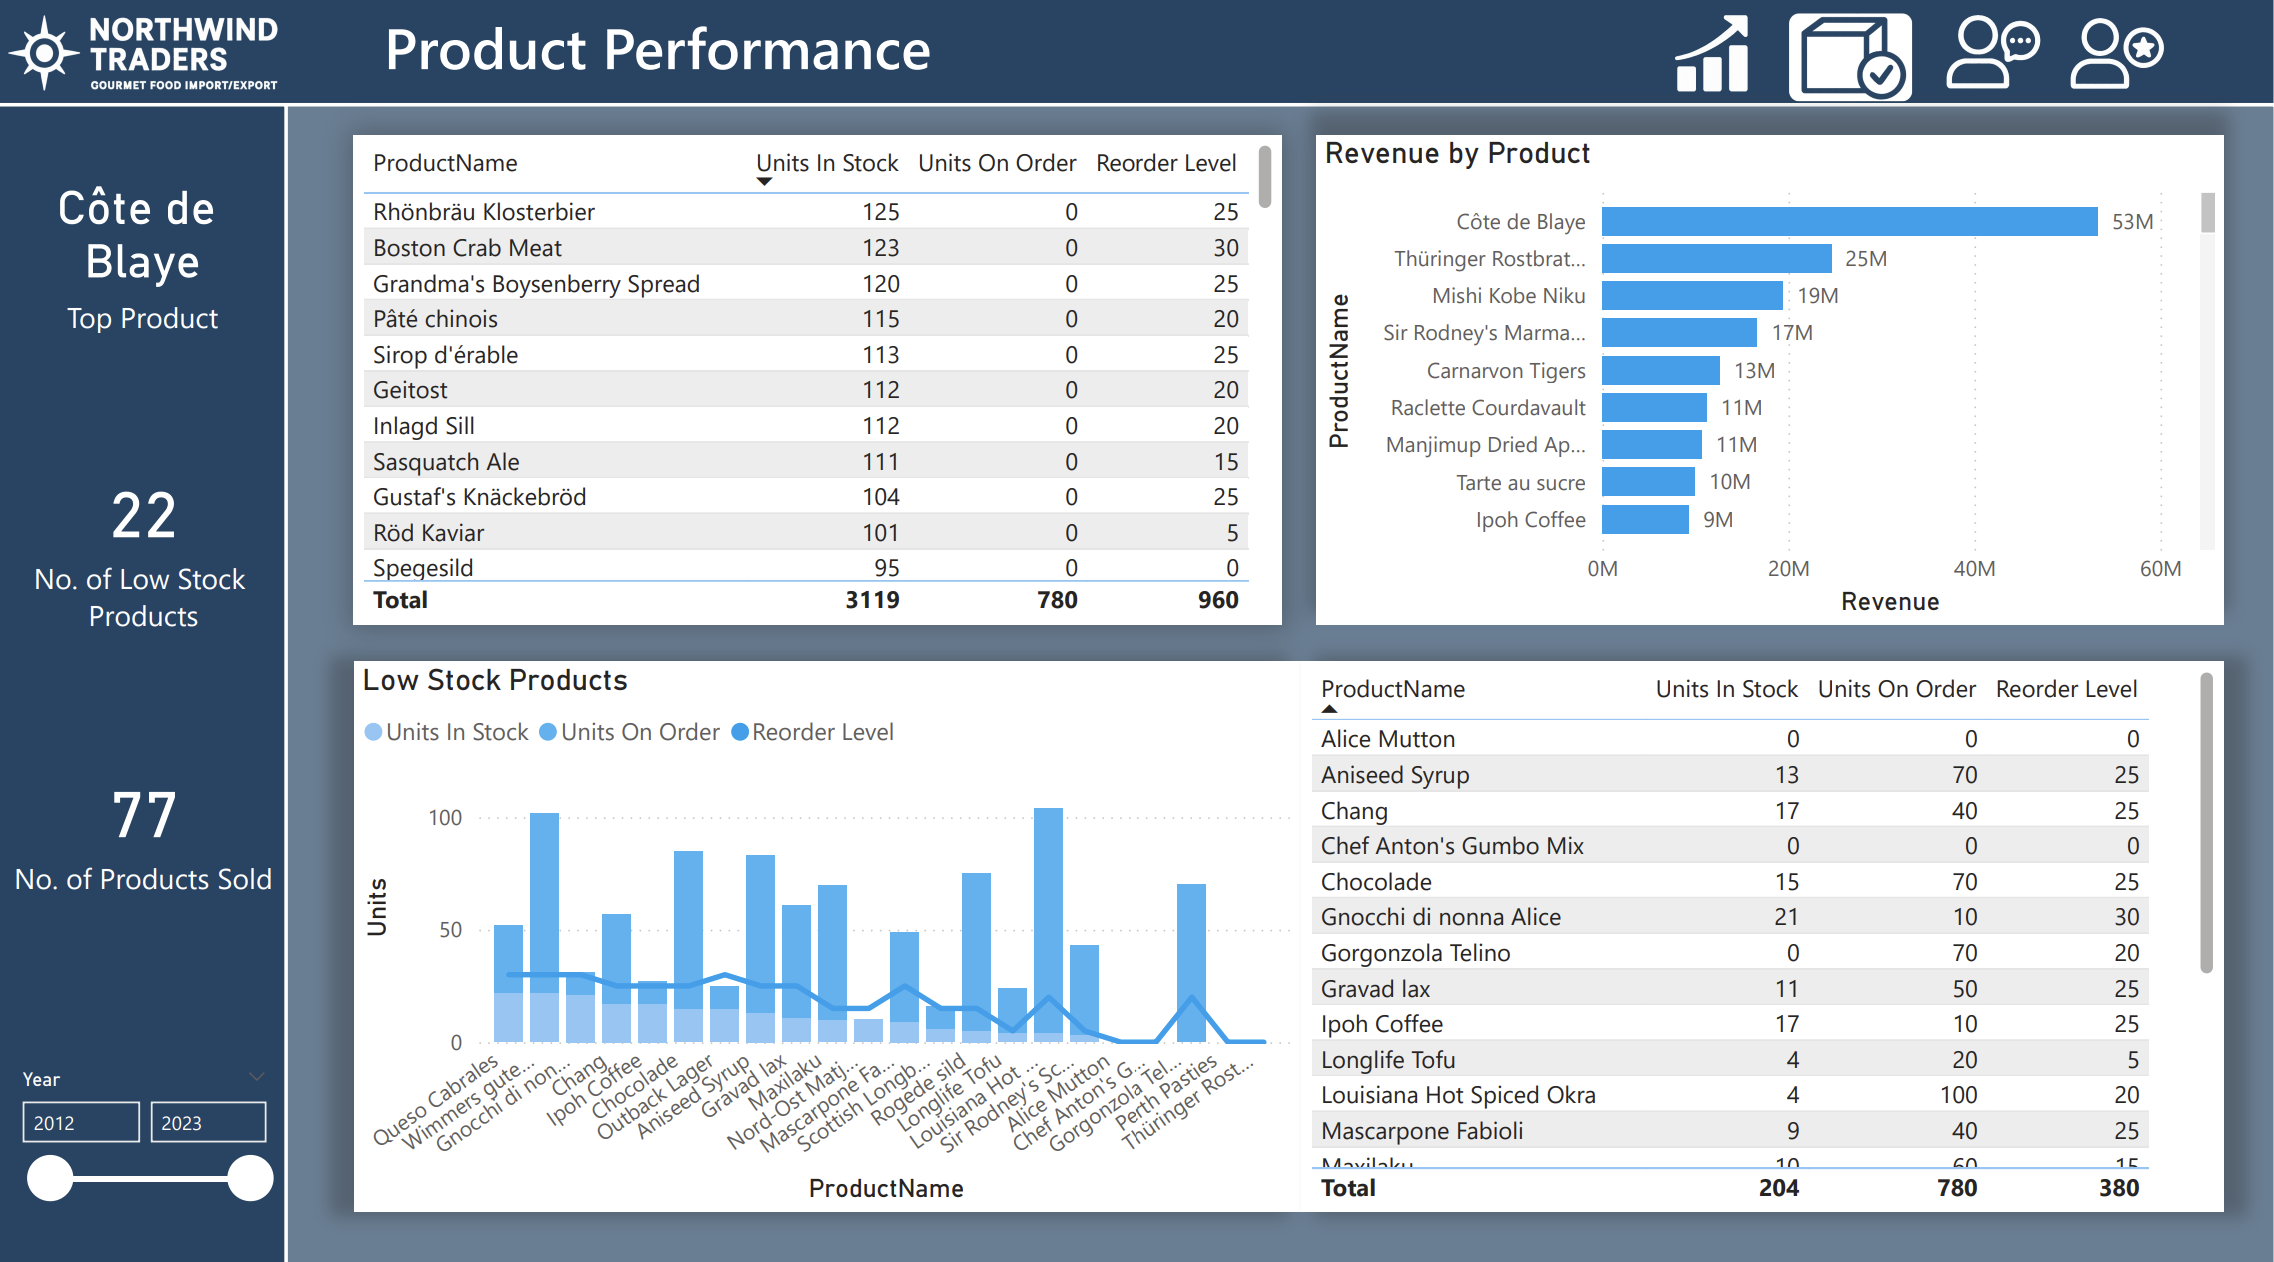

The page's visual inventory and layout, read from the dashboard file:
{"tool":"powerbi","page":{"name":"Product Performance","canvas":[1280,720],"ordinal":1},"visuals":[{"type":"shape","box":[0,7.8,1280,60.3],"z":0},{"type":"image","box":[0,7.8,163.4,60.3],"z":1000},{"type":"textbox","box":[212,7.8,327.8,60.3],"z":2000},{"type":"shape","box":[162.4,68.1,1117.6,651.7],"z":3000},{"type":"shape","box":[0,68.1,162.4,651.7],"z":4000},{"type":"card","fields":{"Values":["product_revenue_by_year.Top Product"]},"box":[0,97.9,162.9,102.9],"z":5000},{"type":"card","fields":{"Values":["Count(low_stock_products.ProductName)"]},"box":[0,210.8,163.9,188.9],"z":6000},{"type":"slicer","fields":{"Values":["product_revenue_by_year.Year"]},"box":[1,604,162.4,115.7],"z":7000},{"type":"card","fields":{"Values":["Count(product_revenue_by_year.ProductName)"]},"box":[1,422.7,161.9,101.9],"z":8000},{"type":"tableEx","fields":{"Values":["product_inventory.ProductName","Sum(product_inventory.UnitsInStock)","Sum(product_inventory.UnitsOnOrder)","Sum(product_inventory.ReorderLevel)"]},"box":[200.4,84.6,521.3,275.3],"z":9000},{"type":"barChart","title":"Revenue by Product","fields":{"Category":["product_revenue_by_year.ProductName"],"Y":["Sum(product_revenue_by_year.Revenue)"]},"box":[741.2,84.6,509.7,275.3],"z":10000},{"type":"lineStackedColumnComboChart","title":"Low Stock Products","fields":{"Category":["low_stock_products.ProductName"],"Y":["Sum(low_stock_products.UnitsInStock)","Sum(low_stock_products.UnitsOnOrder)"],"Y2":["Sum(low_stock_products.ReorderLevel)"]},"box":[200.4,381.3,533,308.3],"z":11000},{"type":"image","box":[996.5,9.2,90.4,62.3],"z":11015},{"type":"tableEx","fields":{"Values":["low_stock_products.ProductName","Sum(low_stock_products.UnitsInStock)","Sum(low_stock_products.UnitsOnOrder)","Sum(low_stock_products.ReorderLevel)"]},"box":[733.4,381.3,517.4,308.3],"z":12000},{"type":"image","box":[1083.3,1,72.9,74.3],"z":14000},{"type":"image","box":[1156.2,6.2,68.6,65.7],"z":15000},{"type":"image","box":[927.3,0.9,74.1,75],"z":16000}]}

Visuals, with their boxes in screenshot pixels (x1, y1, x2, y2), scaled from the page's 1280x720 canvas onto the 2274x1262 screenshot:
shape: 0,14,2273,119
image: 0,14,290,119
textbox: 377,14,959,119
shape: 289,119,2273,1261
shape: 0,119,289,1261
card - product_revenue_by_year.Top Product: 0,172,289,352
card - Count(low_stock_products.ProductName): 0,369,291,701
slicer - product_revenue_by_year.Year: 2,1059,290,1261
card - Count(product_revenue_by_year.ProductName): 2,741,289,920
tableEx - product_inventory.ProductName x Sum(product_inventory.UnitsInStock): 356,148,1282,631
"Revenue by Product" barChart: 1317,148,2222,631
"Low Stock Products" lineStackedColumnComboChart: 356,668,1303,1209
image: 1770,16,1931,125
tableEx - low_stock_products.ProductName x Sum(low_stock_products.UnitsInStock): 1303,668,2222,1209
image: 1925,2,2054,132
image: 2054,11,2176,126
image: 1647,2,1779,133
